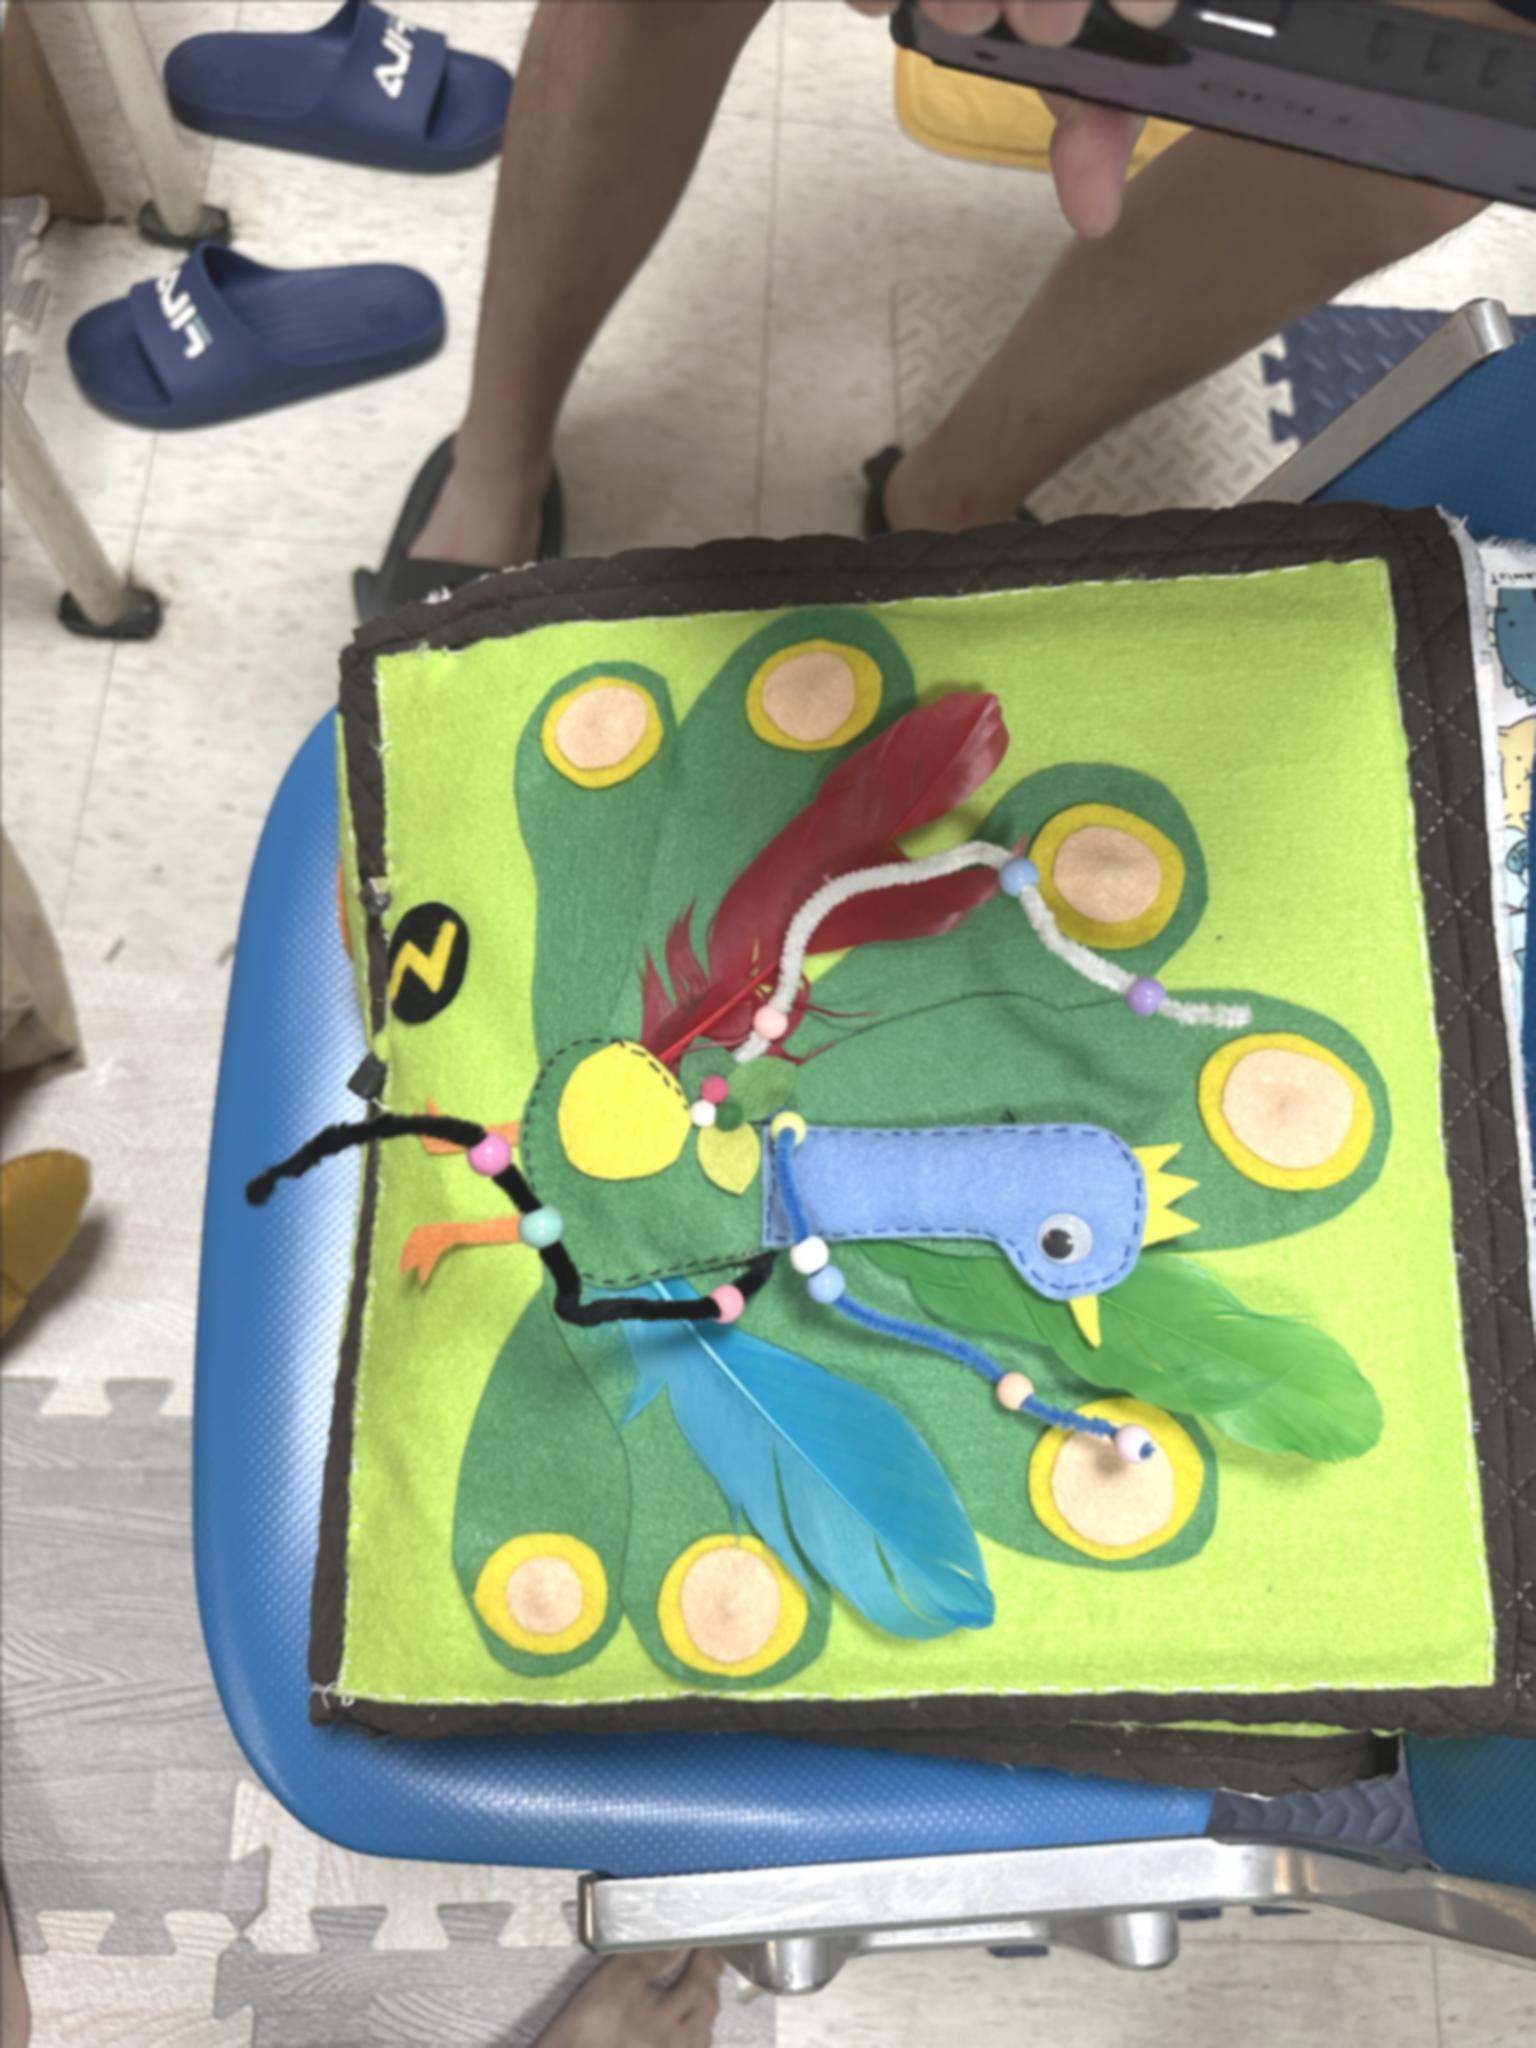bead: (450, 1145, 524, 1203), (975, 1369, 1042, 1417), (523, 1187, 576, 1242), (705, 1272, 763, 1322), (795, 1268, 860, 1311), (745, 993, 794, 1043), (770, 1095, 820, 1143), (789, 1227, 836, 1274), (1120, 977, 1175, 1016), (992, 851, 1039, 895)
